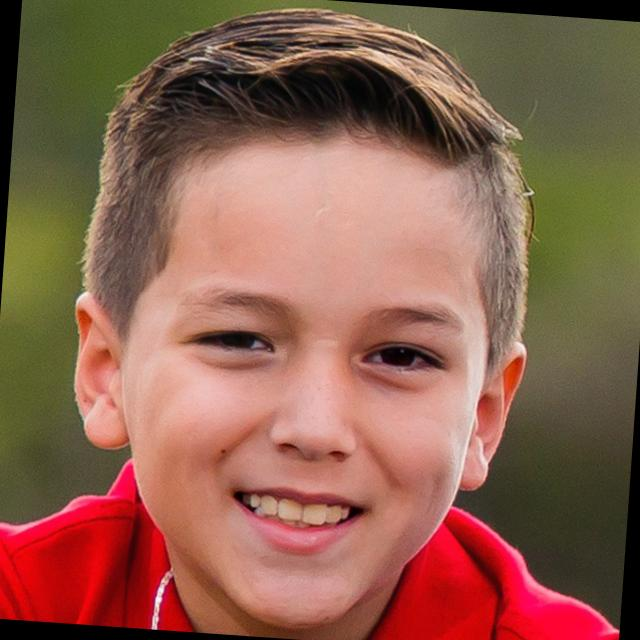face: (49, 135, 578, 640)
